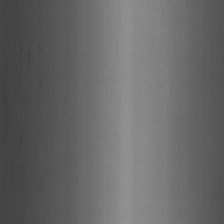inclusion: (38, 38, 45, 106), (16, 30, 23, 88), (26, 41, 31, 97)
